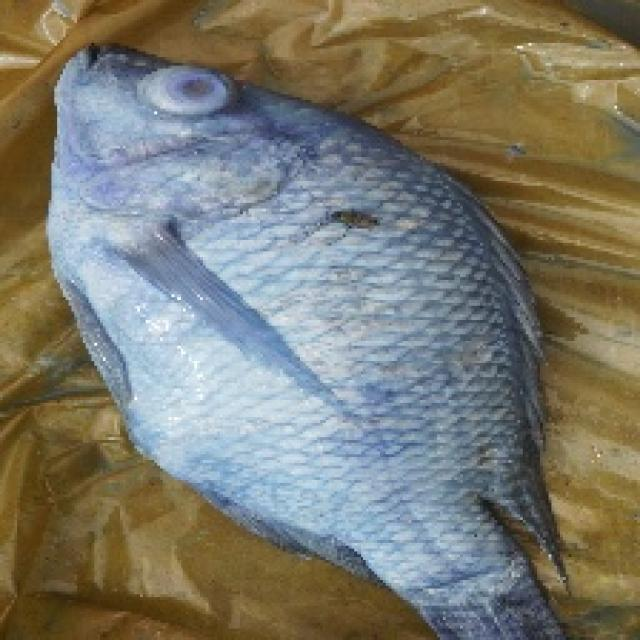Non-Fresh: (55, 32, 571, 626), (130, 54, 247, 134)
